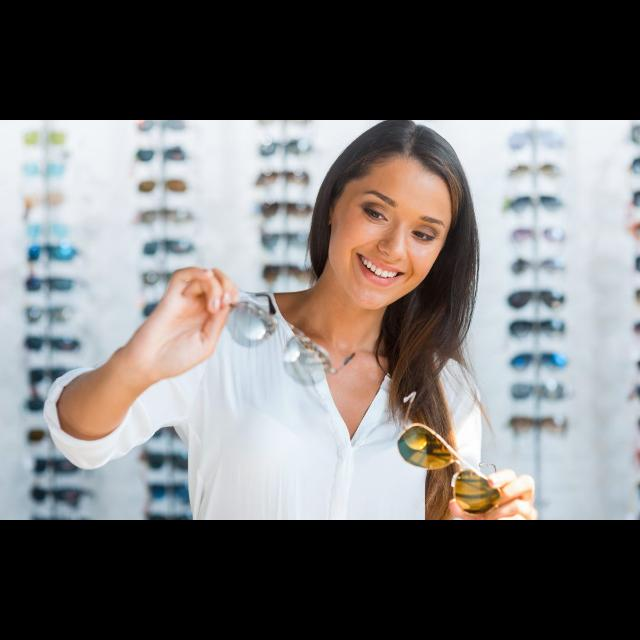Sunglasses: (391, 387, 504, 519)
glasses: (228, 274, 362, 390)
